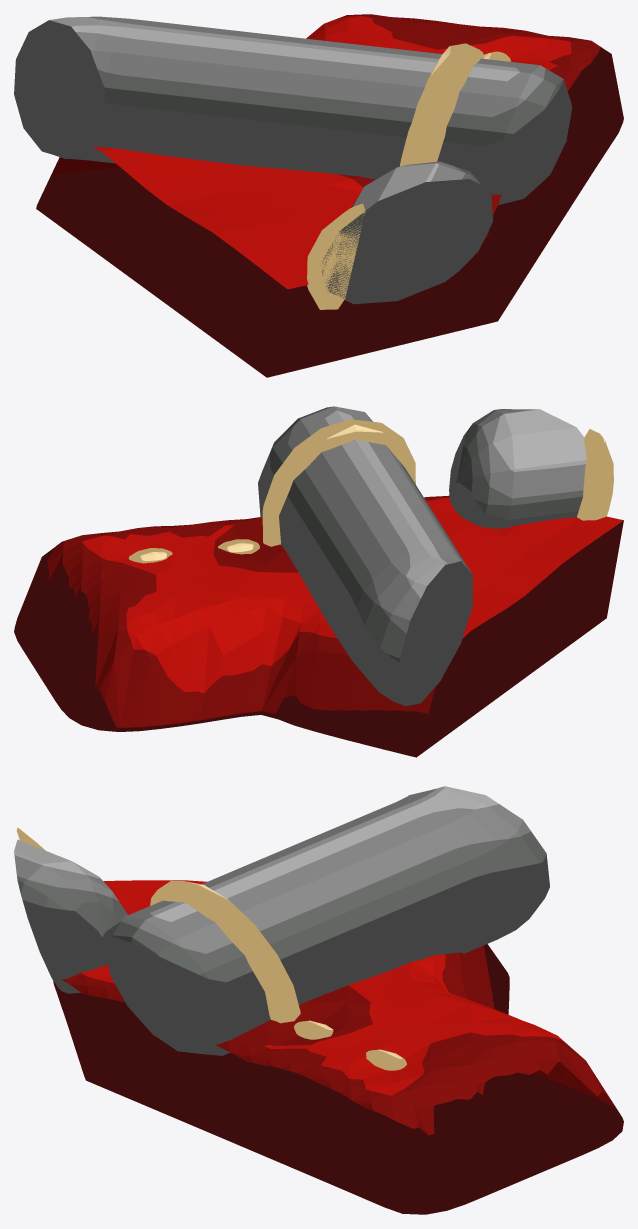
The model's file is strawberry_wing_tr.glb.
3 views of the same model, one above another, from view 1: azimuth 30°, elevation 25°; view 2: azimuth 150°, elevation 25°; view 3: azimuth 270°, elevation 25° (orthographic). The views are drawn at different scales.
Parts seen in each view (by area): view 1: strawberry_wing_tr; view 2: strawberry_wing_tr; view 3: strawberry_wing_tr.
Boxes of the visible parts, x1,y1,x2,y2 form: strawberry_wing_tr: (14, 14, 623, 377); strawberry_wing_tr: (14, 406, 623, 757); strawberry_wing_tr: (14, 786, 623, 1214).
Bounding box in the file's own units: 23.9 × 9.55 × 25.92.
